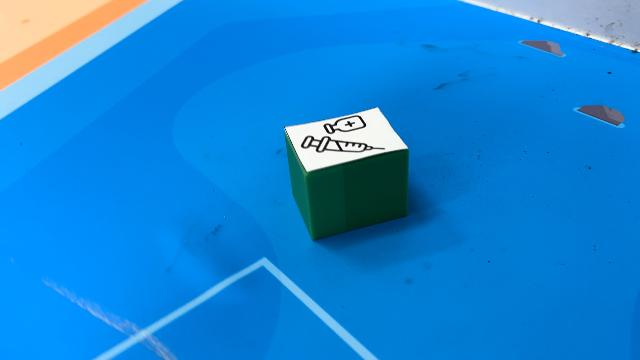syringe: (284, 108, 408, 242)
